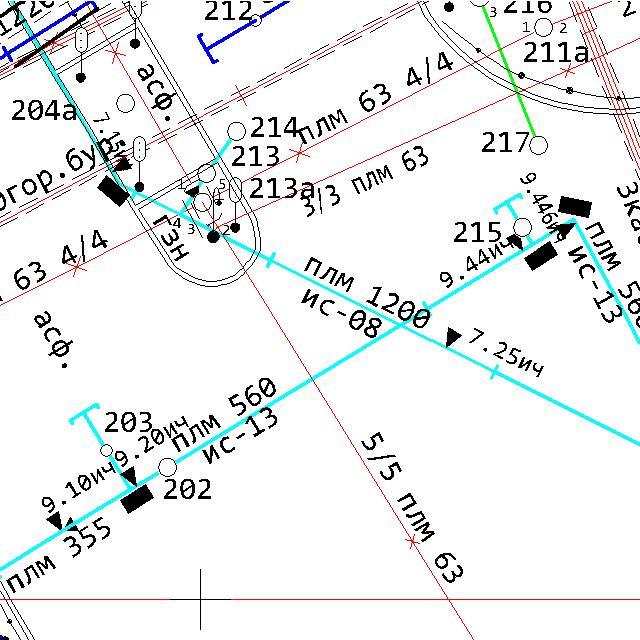asphalt: (137, 63, 177, 122)
mark: (44, 510, 64, 533), (444, 326, 463, 349), (119, 465, 138, 488), (112, 154, 133, 174), (505, 232, 524, 252), (555, 222, 577, 239)
well: (226, 121, 248, 142), (533, 17, 554, 38), (528, 135, 549, 156), (115, 93, 135, 114), (512, 217, 532, 238), (158, 457, 178, 478), (193, 192, 212, 214), (196, 163, 216, 183), (98, 442, 115, 458), (248, 12, 263, 28)
